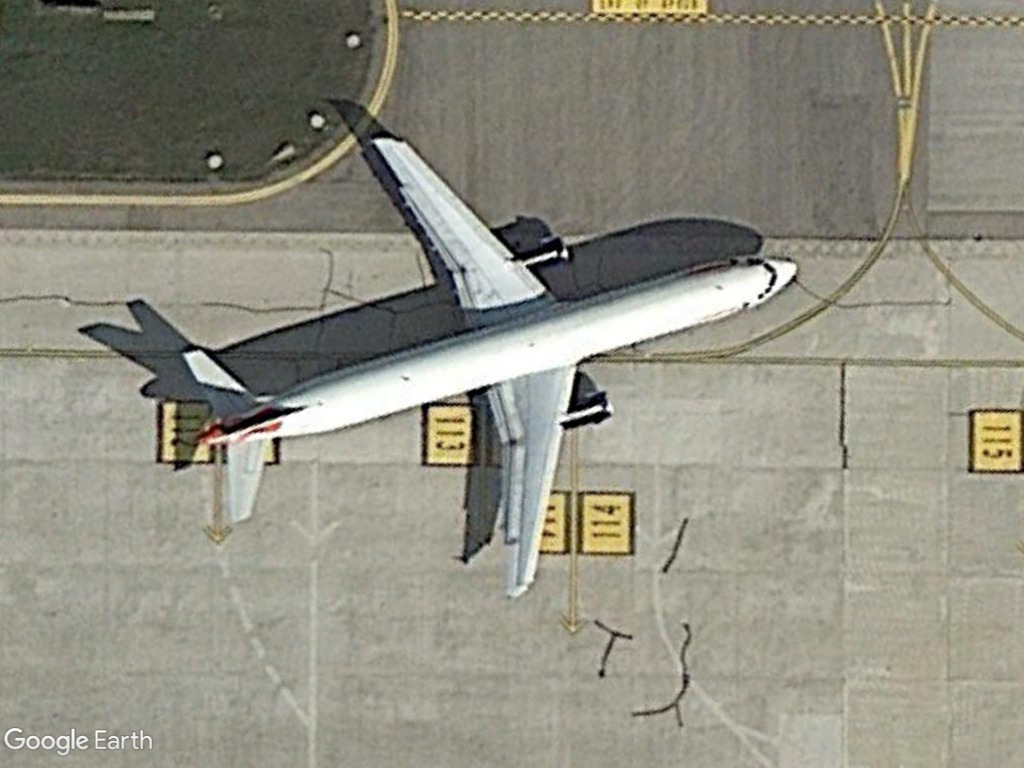airliner: (176, 127, 803, 611)
